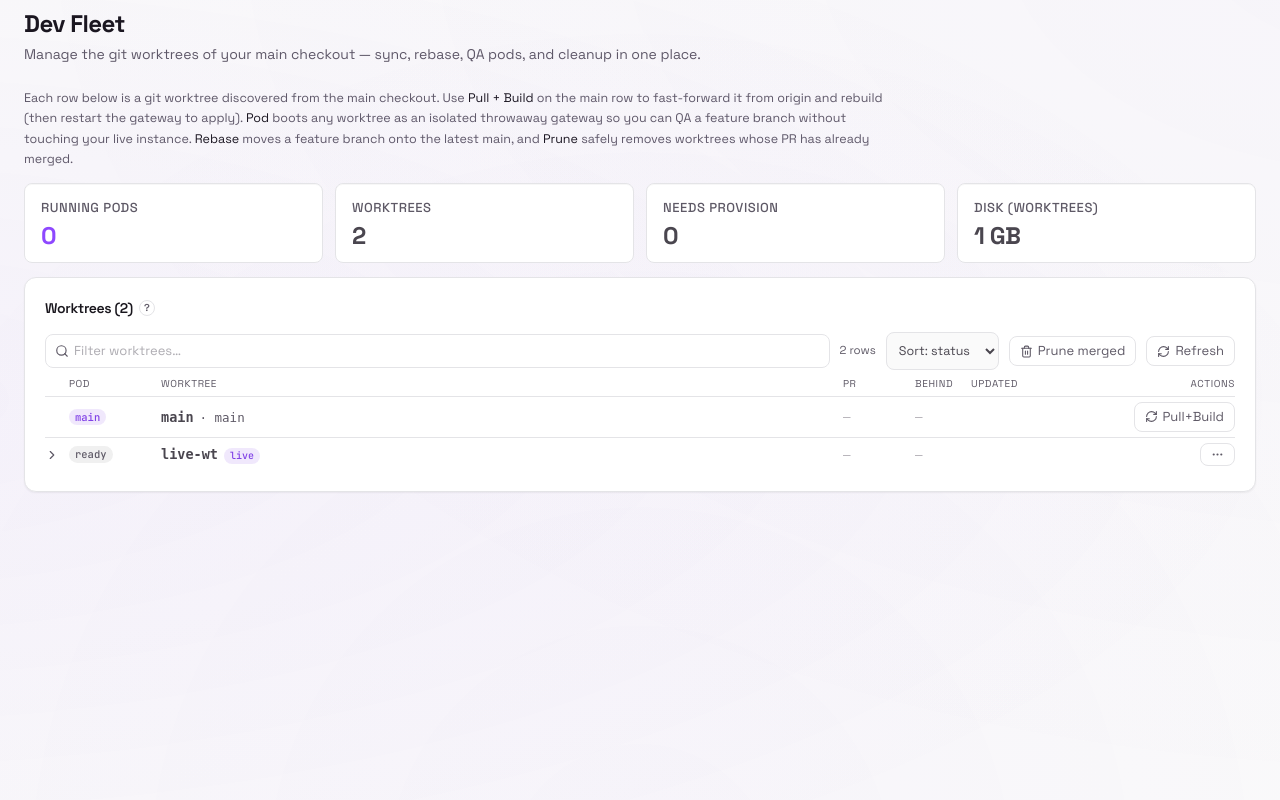
Test: DevFleetPage › hides "Make live" for the worktree that is already live
The width and height of the screenshot is (1280, 800).
expect the text "live-wt" is shown: met, box left=161, top=444, right=218, bottom=465
Click the button named "More actions". click: (1218, 454)
box: left=1200, top=443, right=1235, bottom=466
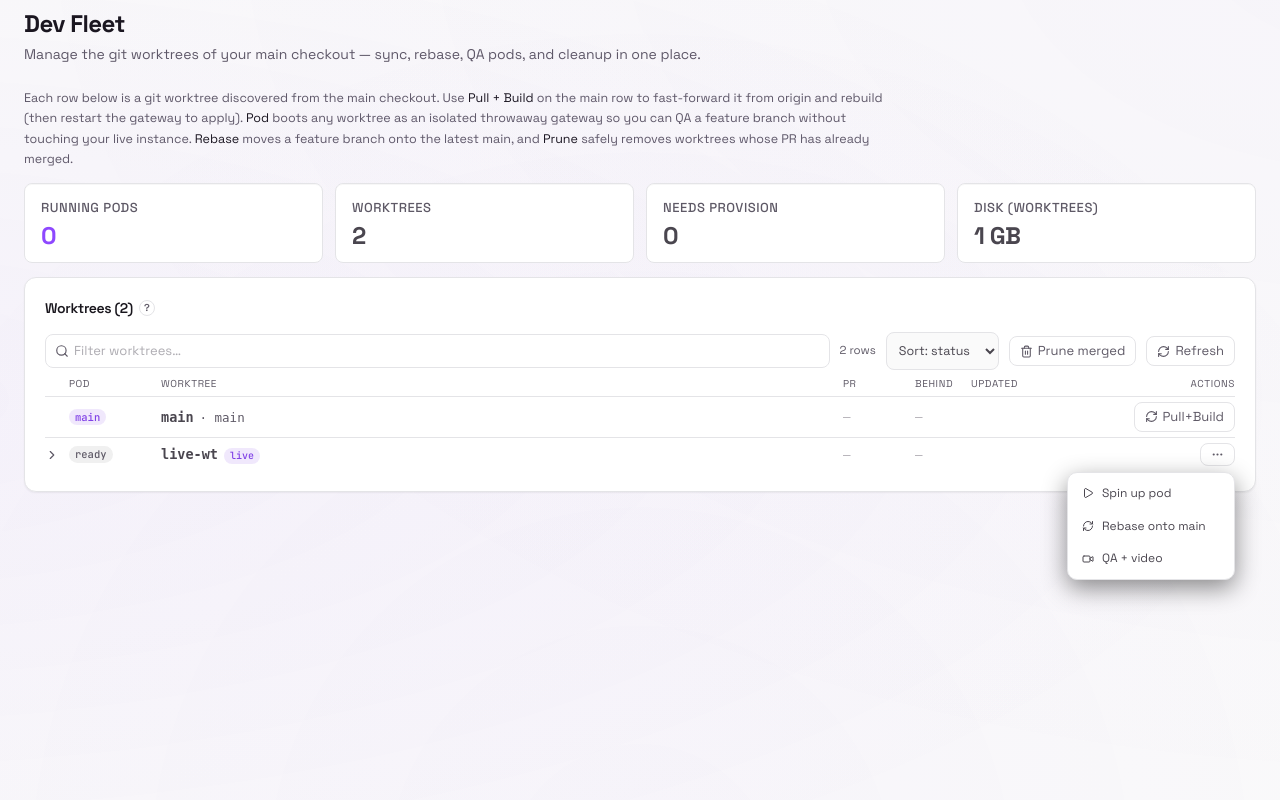
expect the button "Rebase onto main" is shown: met, box left=1082, top=518, right=1206, bottom=534
